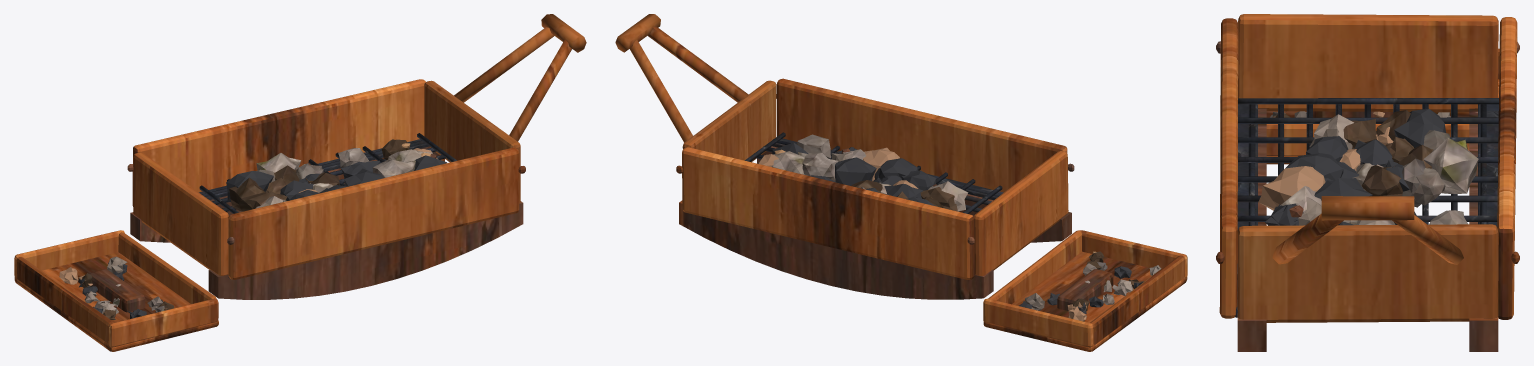
File: lw_ore_sieve_cradle.glb
3 views of the same model, side by side, from view 1: azimuth 30°, elevation 25°; view 2: azimuth 150°, elevation 25°; view 3: azimuth 270°, elevation 25° (orthographic). The views are drawn at different scales.
Parts seen in each view (by area): view 1: model; view 2: model; view 3: model.
Part boxes in pixels (x1,y1,x2,y2): model: (14, 14, 586, 351); model: (615, 14, 1187, 351); model: (1216, 14, 1519, 351).
Size of the model in its own units: 1.5 by 0.4817 by 0.5246.
15 materials, 12 textured.
